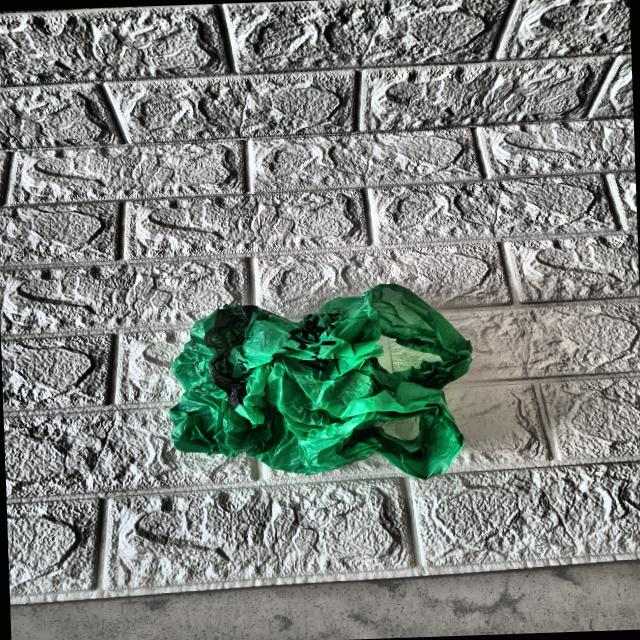plastic bag: (165, 281, 482, 482)
